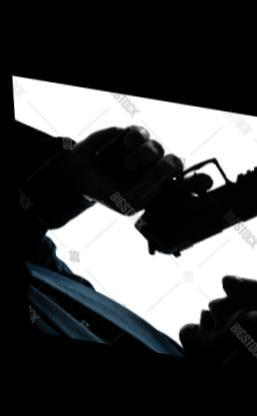pistol: (72, 119, 255, 270)
